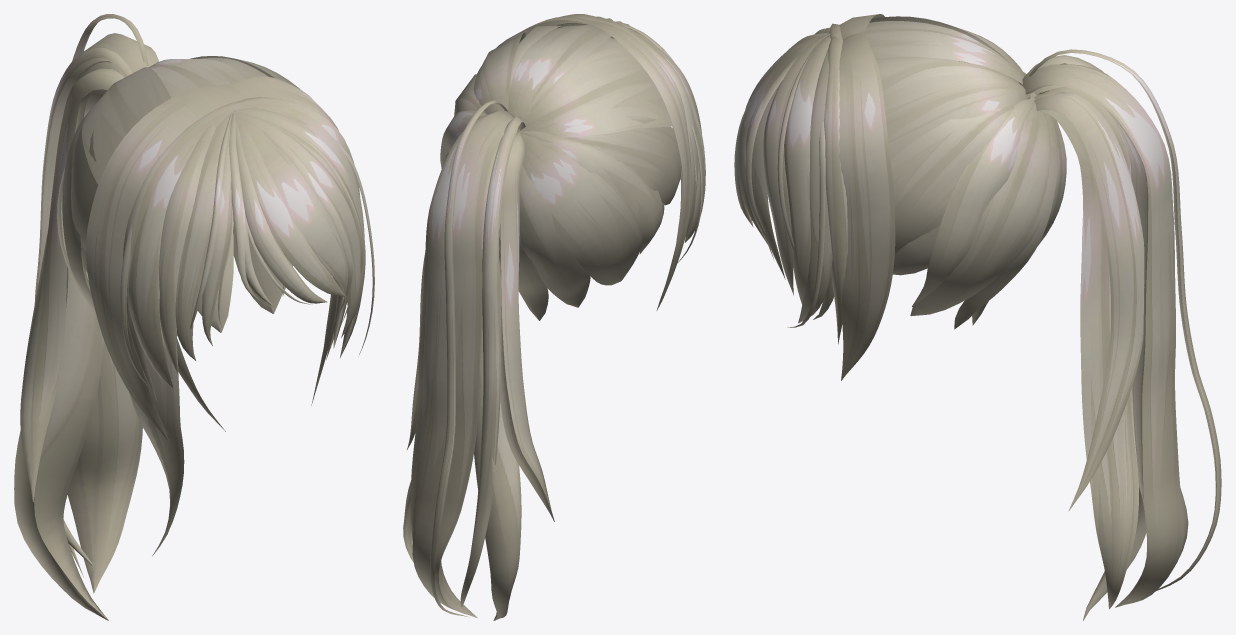
Rendered from vroid_hair_sV.glb.
3 renders of one model, left to right at view 1: azimuth 30°, elevation 25°; view 2: azimuth 150°, elevation 25°; view 3: azimuth 270°, elevation 25°, orthographic. The views are drawn at different scales.
Parts seen in each view (by area): view 1: part; view 2: part; view 3: part.
Boxes of the visible parts, x1=… form: part: x1=14, y1=14, x2=374, y2=620; part: x1=403, y1=14, x2=705, y2=620; part: x1=734, y1=14, x2=1221, y2=620.
Size of the model in its own units: 0.1912 by 0.4407 by 0.3272.
2 materials, 2 textured.
